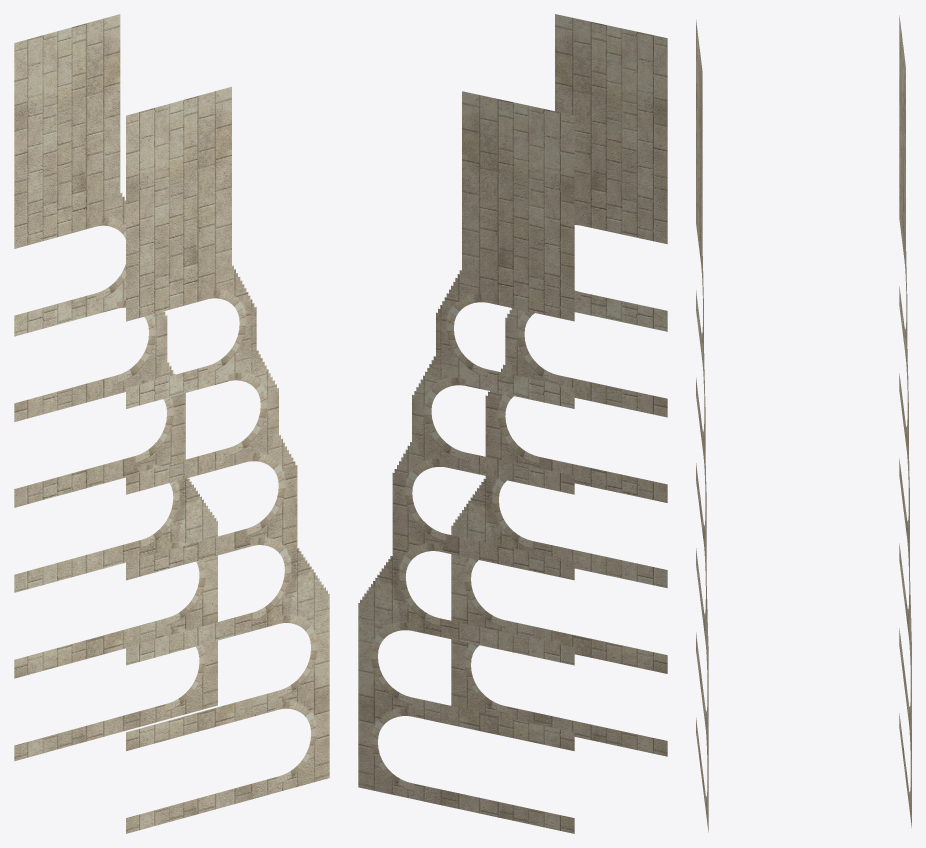
3 renders of one model, left to right at view 1: azimuth 30°, elevation 25°; view 2: azimuth 150°, elevation 25°; view 3: azimuth 270°, elevation 25°, orthographic.
Parts seen in each view (by area): view 1: segment4_; view 2: segment4_; view 3: segment4_.
Part boxes in pixels (<box>): segment4_: <box>14,14,329,833</box>; segment4_: <box>358,14,667,833</box>; segment4_: <box>696,15,911,832</box>.
Bounding box in the file's own units: 365 × 1141 × 313.
